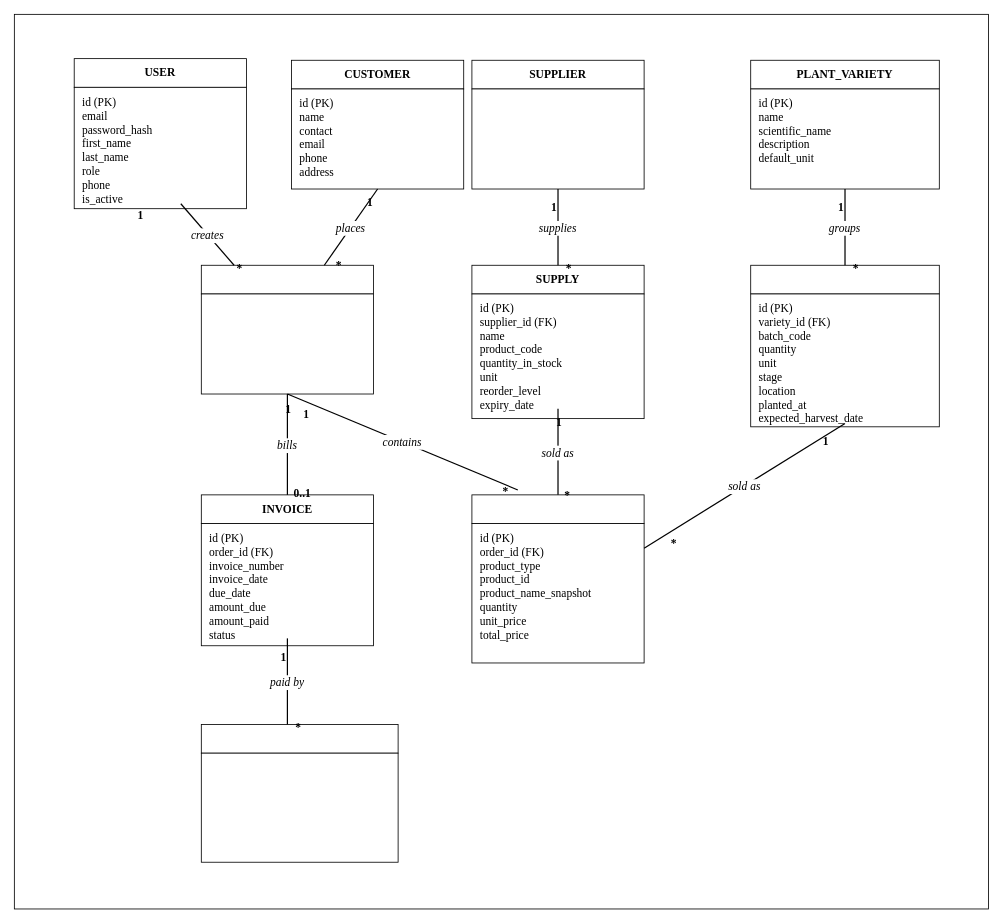
Image size: 1003x923. Some labels were removed from this diagram. Here are the shapes that lost their labels. From the top down, the box of each, then its label:
(471, 88, 644, 189): id (PK) name contact_name email phone address
(200, 264, 374, 294): ORDER
(750, 264, 939, 294): PLANT_STOCK
(200, 293, 374, 394): id (PK) customer_id (FK) user_id (FK) order_date status total_amount
(471, 494, 644, 524): ORDER_ITEM
(200, 724, 398, 753): FINANCIAL_TRANSACTION
(200, 752, 398, 862): id (PK) invoice_id (FK) order_id (FK) amount method transaction_date reference
